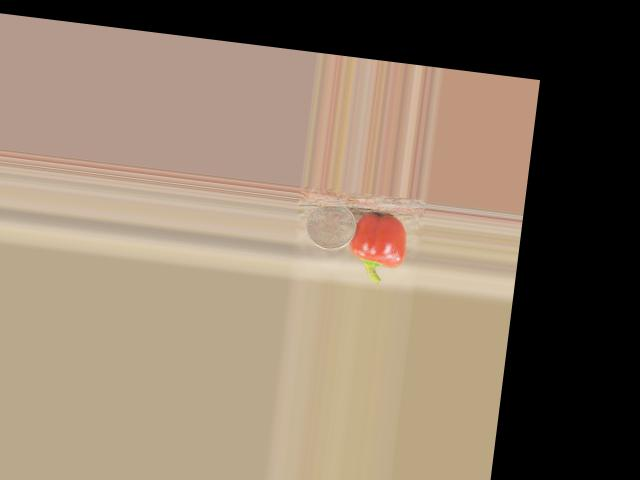bell_pepper: (347, 208, 410, 285)
